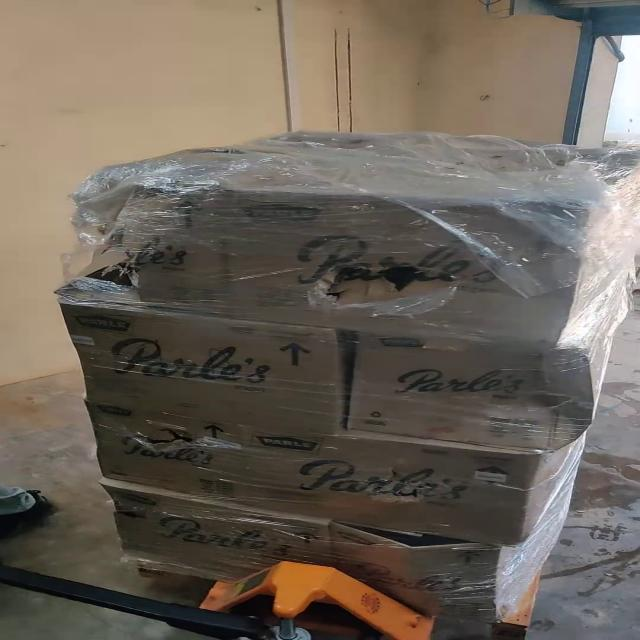leakage: (284, 242, 483, 320)
squeeze: (39, 158, 216, 288), (465, 348, 601, 450)
tear: (308, 495, 504, 560), (92, 418, 219, 472)
